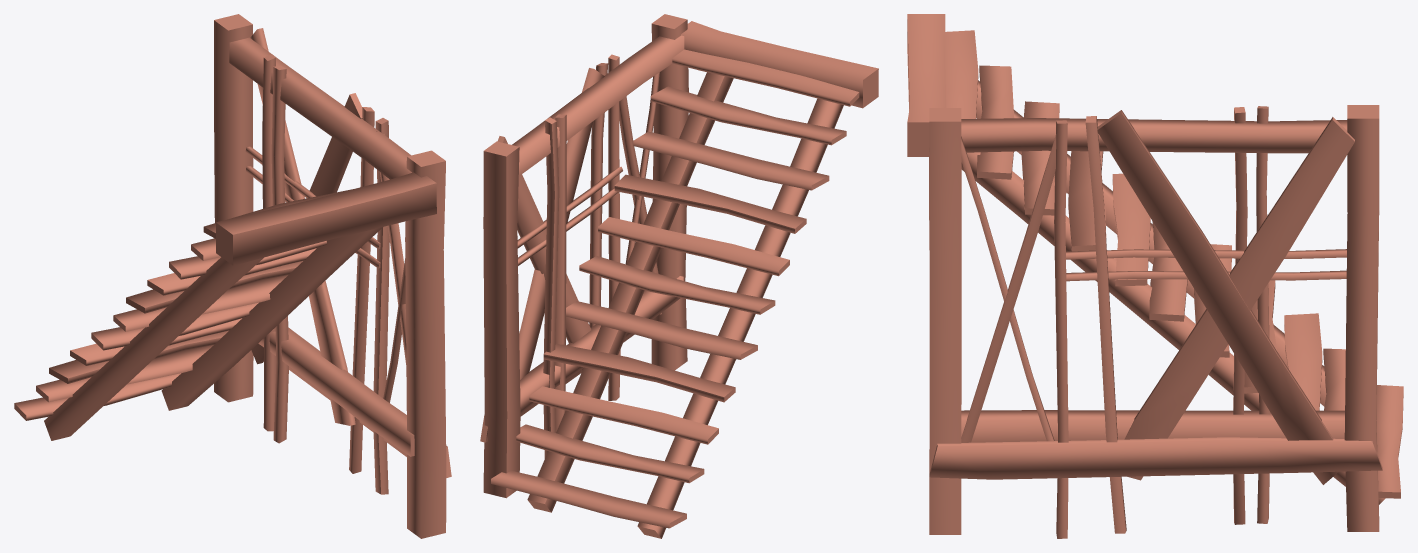
Rendered from stairs.fbx.
3 renders of one model, left to right at view 1: azimuth 30°, elevation 25°; view 2: azimuth 150°, elevation 25°; view 3: azimuth 270°, elevation 25°, orthographic. The views are drawn at different scales.
Visible parts, largest first — view 1: Plane.017; view 2: Plane.017; view 3: Plane.017.
Boxes of the visible parts, x1,y1,x2,y2 form: Plane.017: (14,14,451,538); Plane.017: (480,14,878,538); Plane.017: (907,14,1403,538).
Size of the model in its own units: 2.59 by 4.15 by 4.37.
